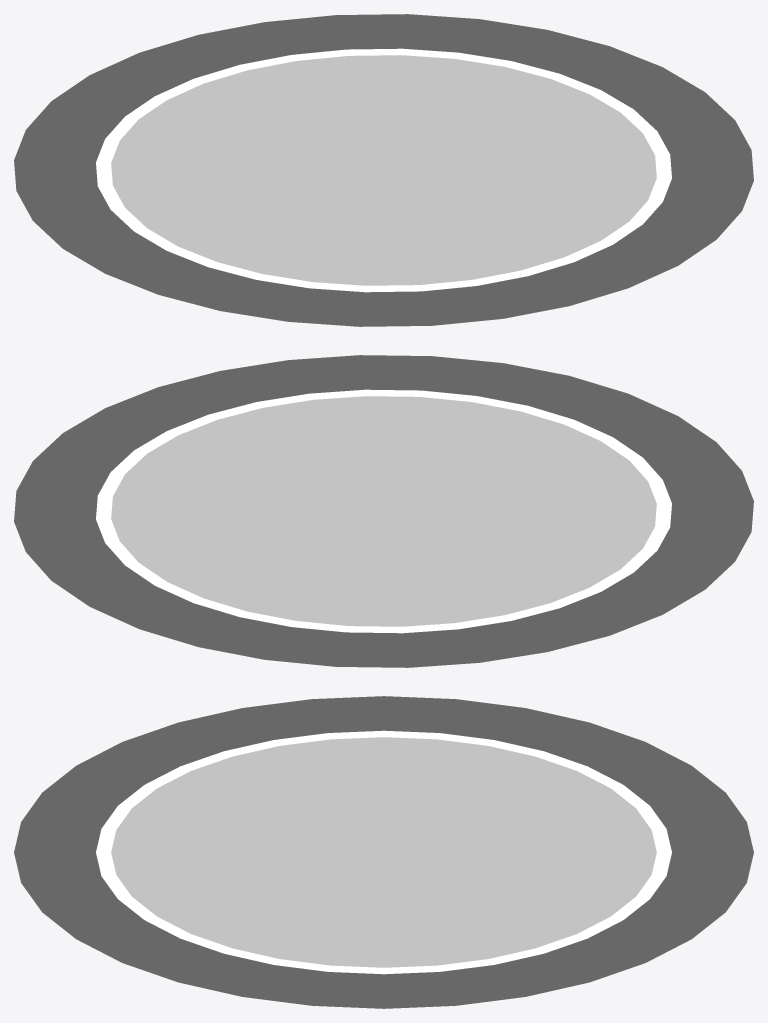
The model's file is mesh_Factory_CTF_CylinderFloor.fbx.
The picture shows the model from 3 angles, top to bottom: view 1: azimuth 30°, elevation 25°; view 2: azimuth 150°, elevation 25°; view 3: azimuth 270°, elevation 25°; orthographic projection.
Parts seen in each view (by area): view 1: Cylinder.019; view 2: Cylinder.019; view 3: Cylinder.019.
Part boxes in pixels (left/top/right/bottom): Cylinder.019: left=14, top=14, right=753, bottom=326; Cylinder.019: left=14, top=355, right=753, bottom=667; Cylinder.019: left=14, top=696, right=753, bottom=1008.
Size of the model in its own units: 4 by 5.18e-17 by 4.
